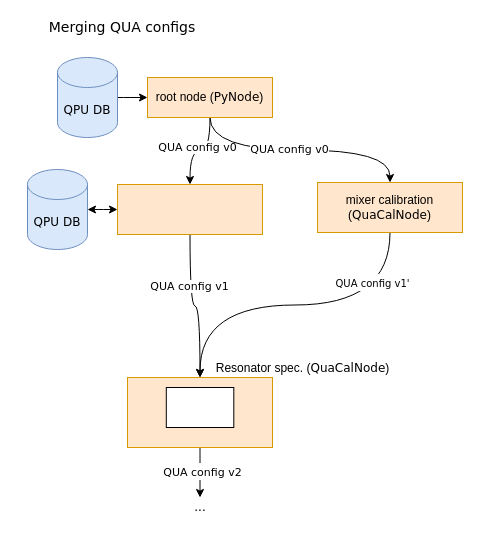
The diagram is 480 pixels wide and 534 high, and some of its shapes have lost their labels. Each missing label, with the centre of its shape:
merge configs: the point at 199,407
Time of flight calibration ( QuaCalNode ): the point at 189,209
